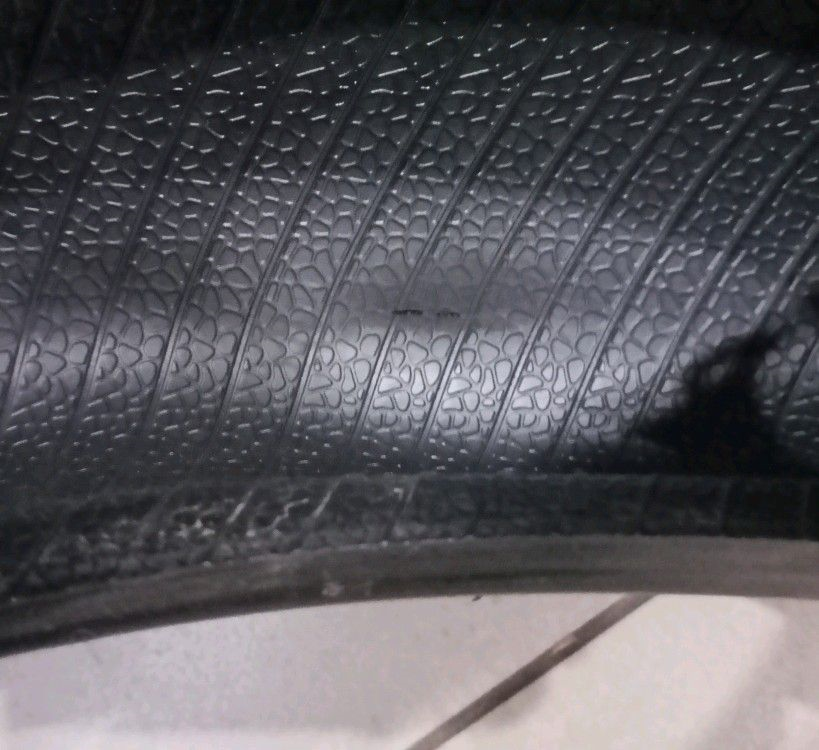CBU: (351, 290, 518, 326)
